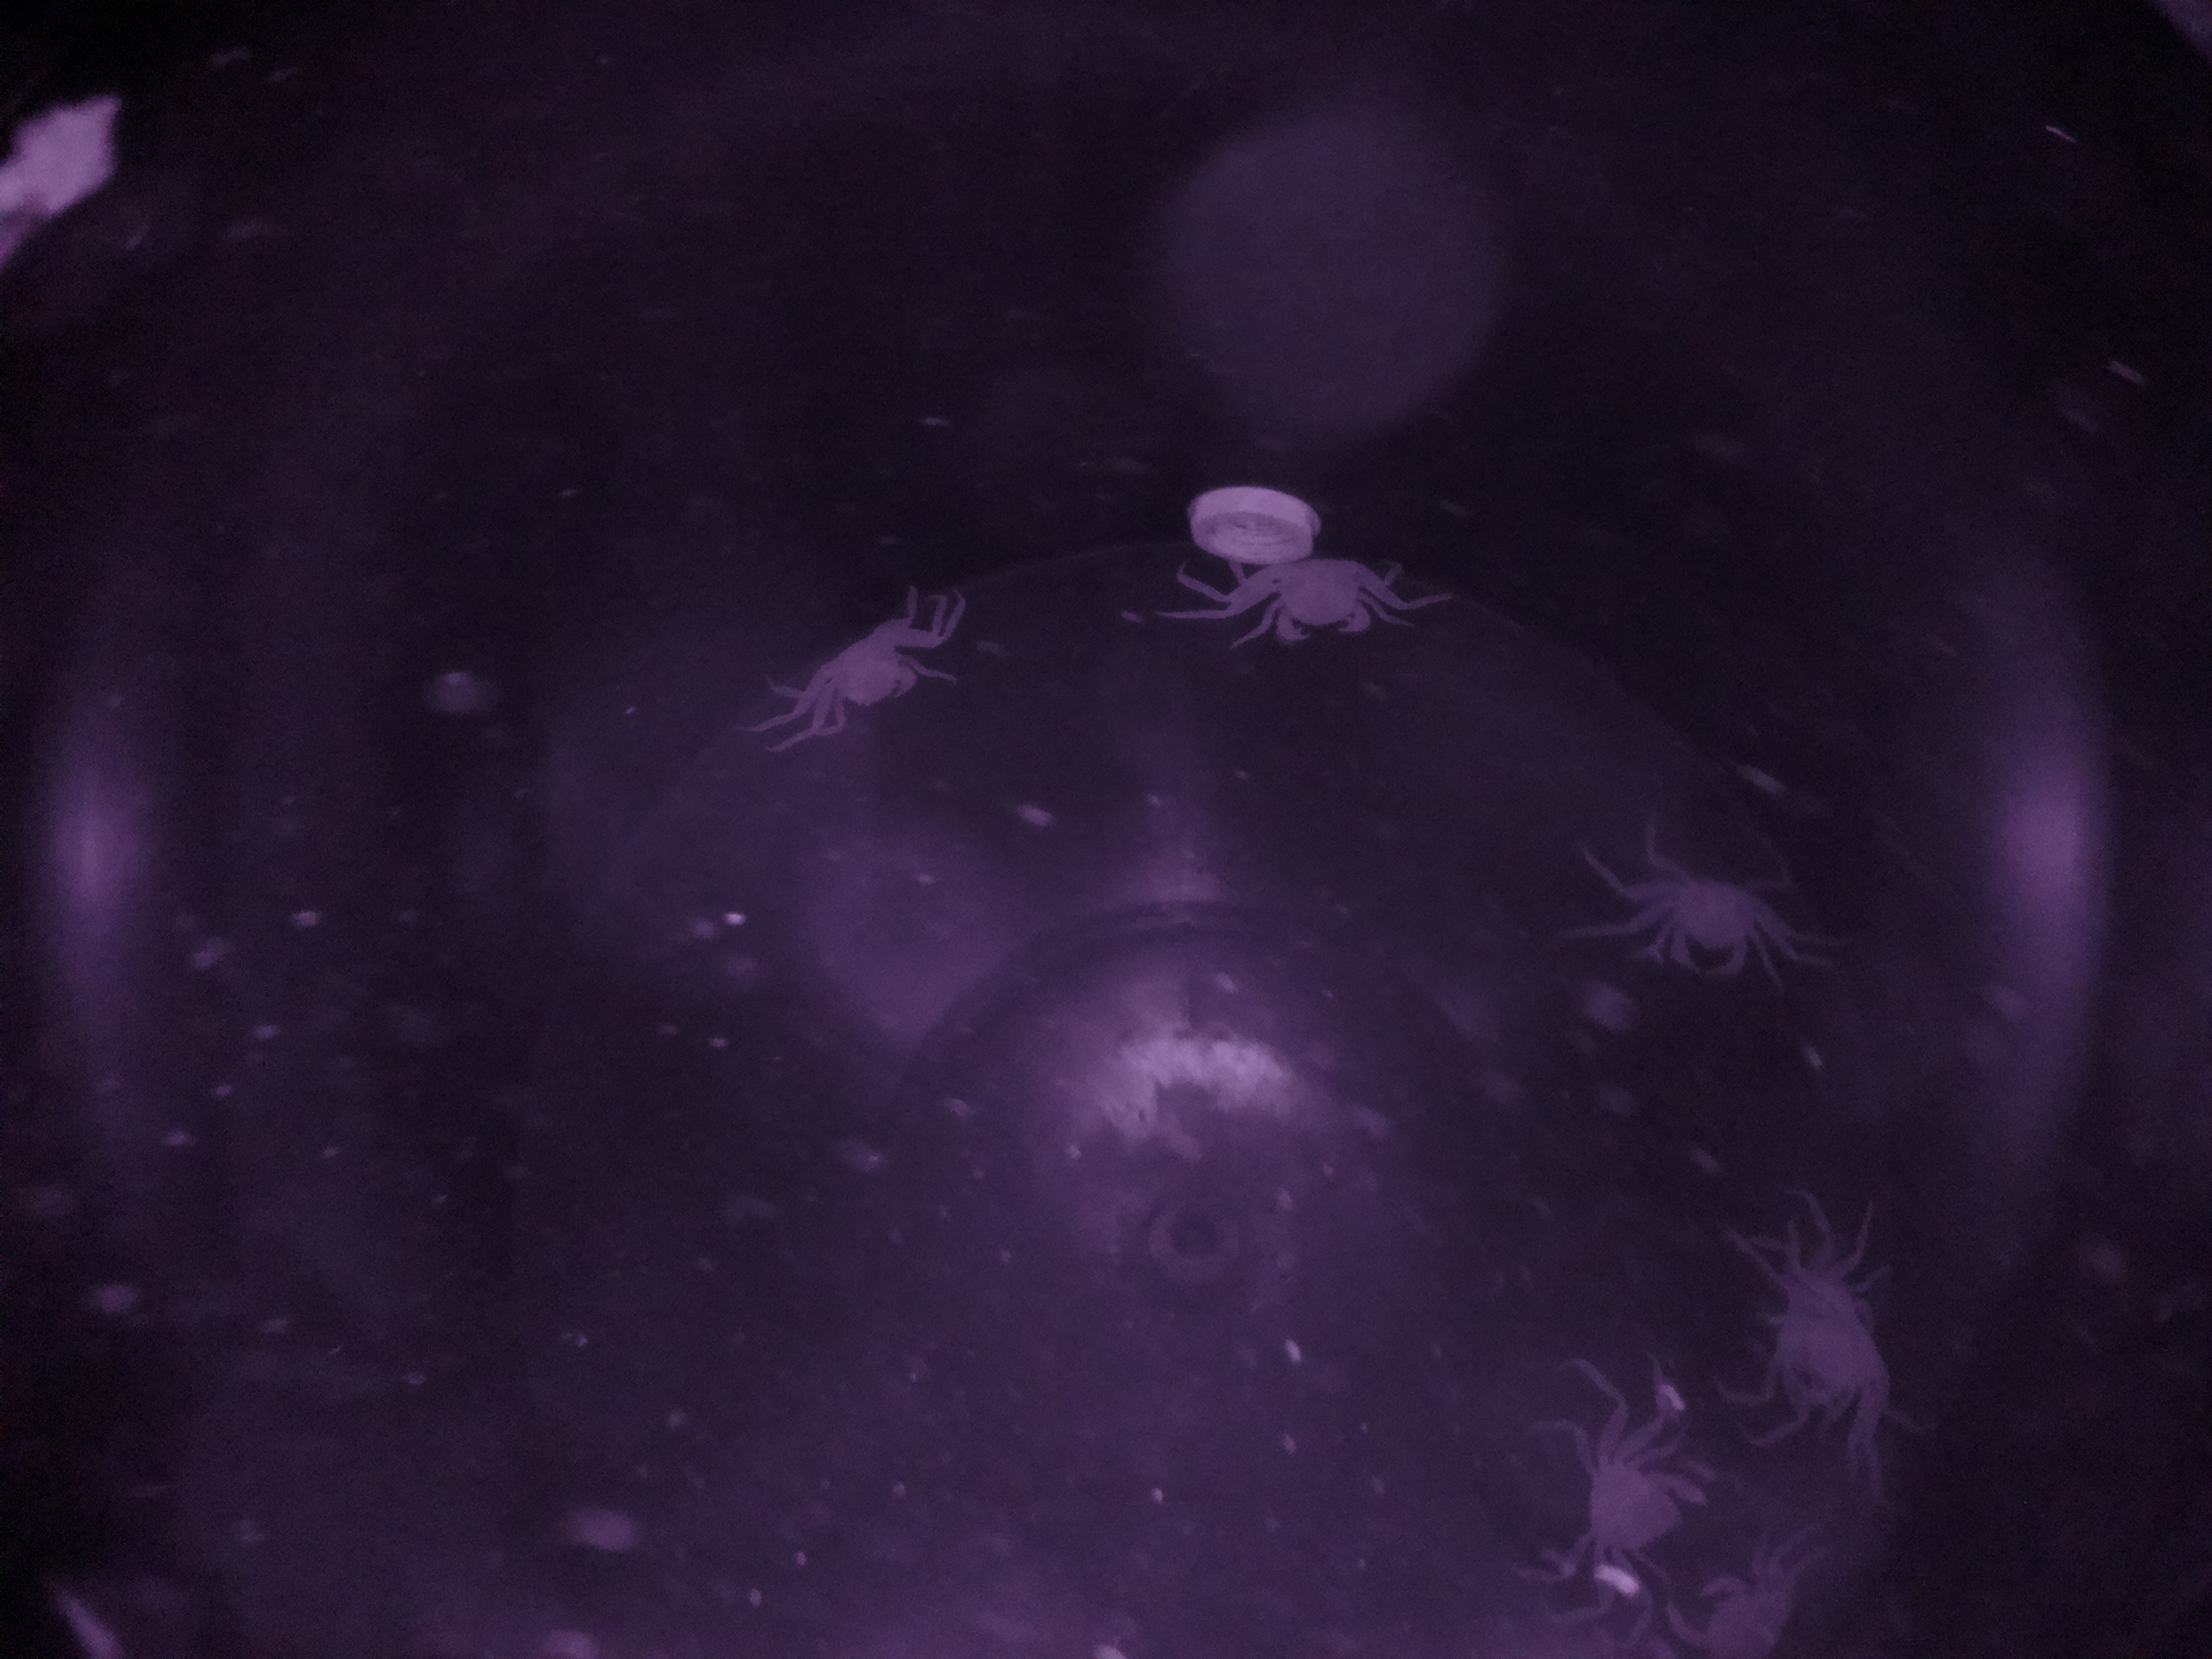Crab: (1554, 1398, 1716, 1596), (1595, 856, 1817, 988), (1198, 537, 1423, 650), (773, 610, 946, 735)
